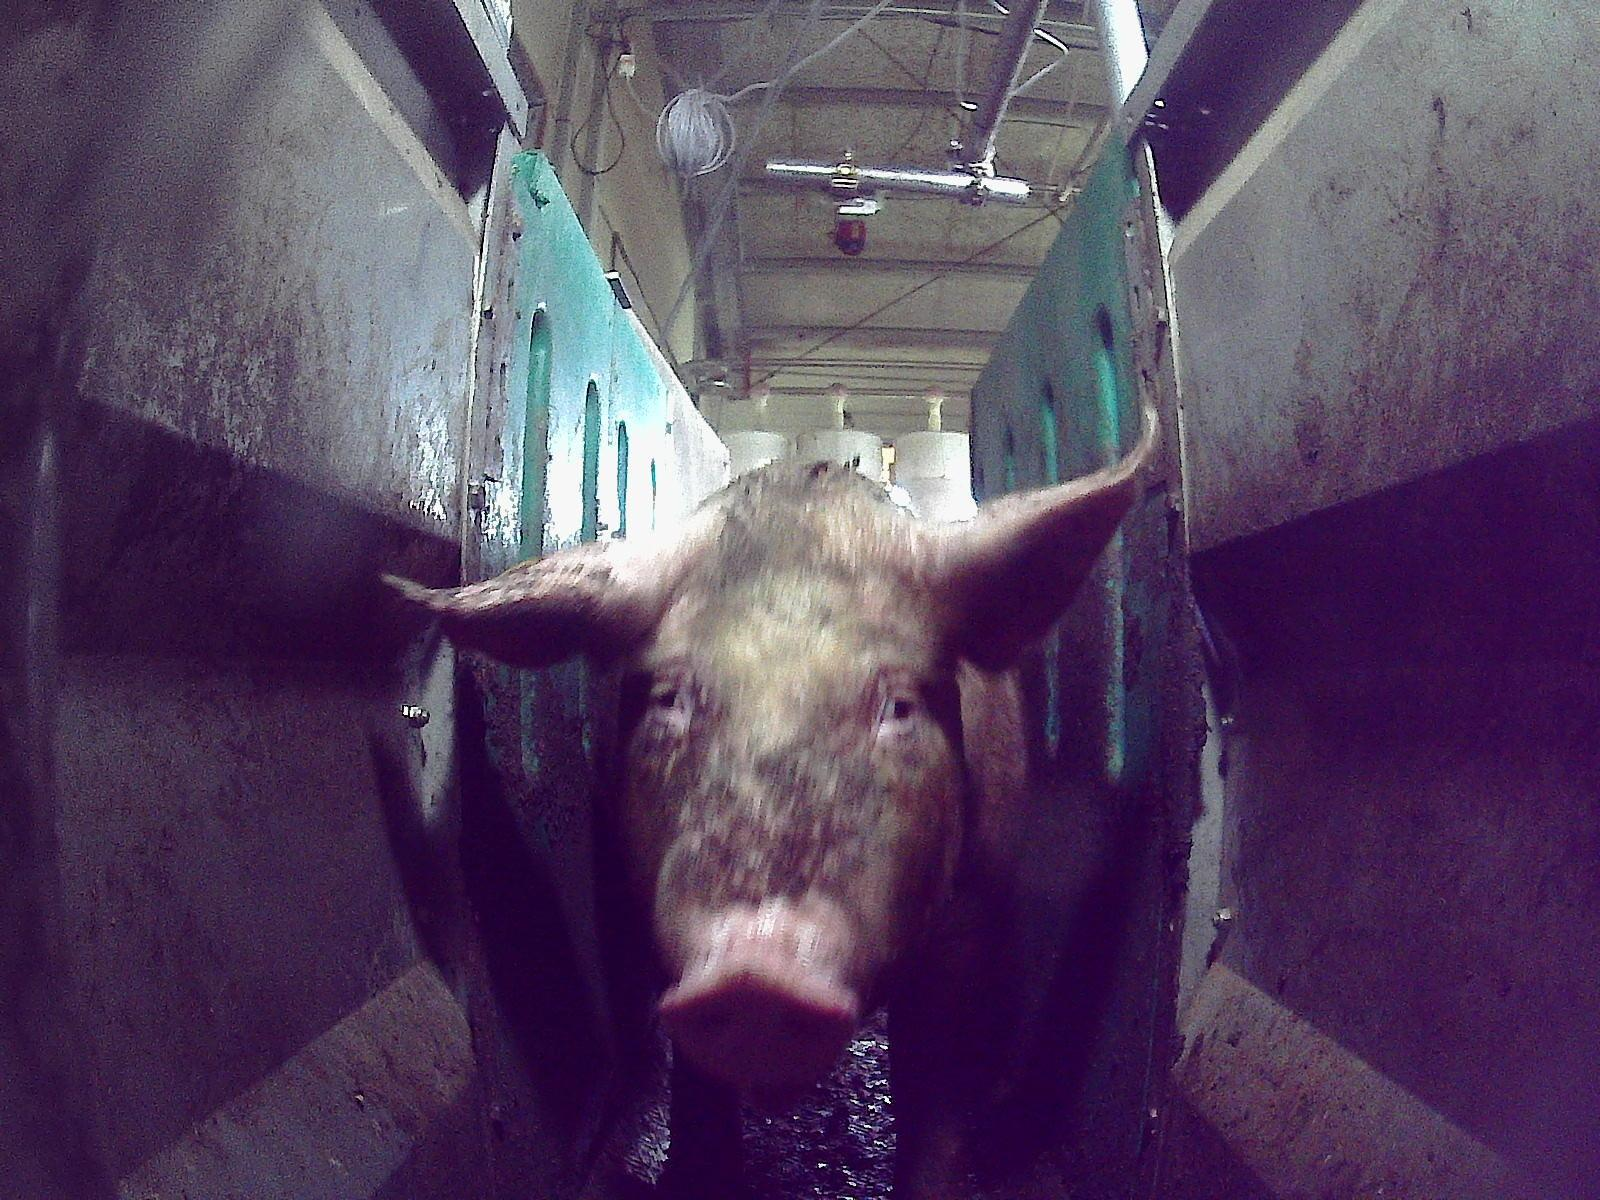Face: (612, 476, 969, 1111)
